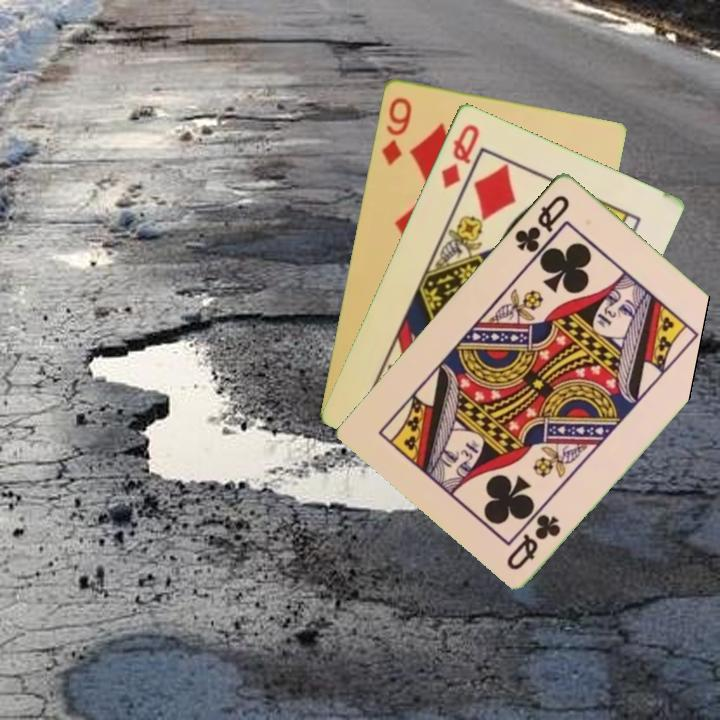9d: (378, 93, 414, 169)
Qc: (511, 190, 573, 255), (502, 509, 564, 573)
Qd: (437, 119, 483, 191)
